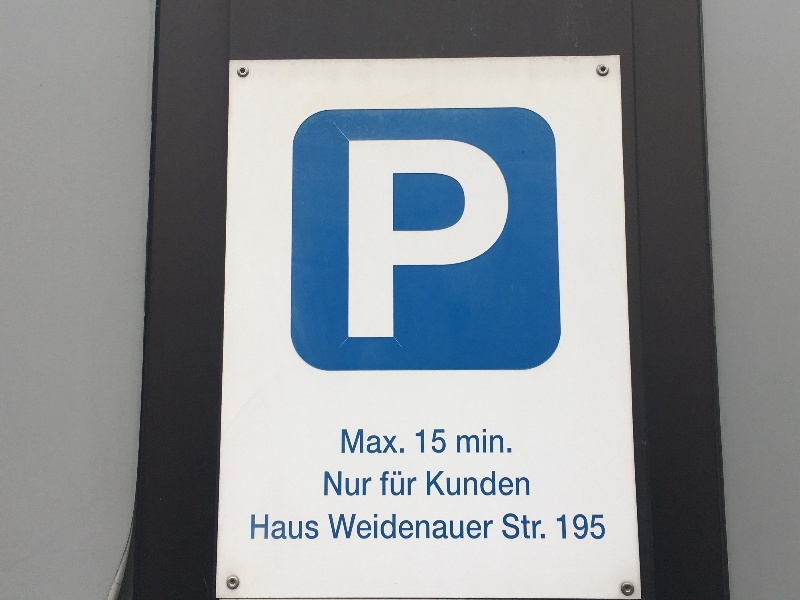text: (353, 140, 368, 340), (369, 140, 384, 340), (385, 140, 400, 340), (401, 140, 416, 340), (417, 140, 432, 340), (433, 140, 448, 340), (449, 140, 464, 340), (465, 140, 480, 340), (481, 140, 496, 340), (497, 140, 512, 340), (349, 140, 352, 340), (561, 511, 576, 541), (577, 511, 592, 541), (593, 511, 608, 541), (513, 512, 528, 541), (529, 512, 544, 541), (417, 430, 432, 458), (433, 430, 448, 458), (337, 471, 352, 499), (353, 471, 368, 499), (433, 471, 448, 499), (449, 471, 464, 499), (465, 471, 480, 499), (481, 471, 496, 499), (497, 471, 512, 499), (513, 471, 528, 499), (337, 513, 352, 541), (353, 513, 368, 541), (369, 513, 384, 541), (385, 513, 400, 541), (401, 513, 416, 541), (417, 513, 432, 541), (433, 513, 448, 541), (449, 513, 464, 541), (465, 513, 480, 541), (401, 472, 417, 498), (257, 514, 272, 541), (273, 514, 288, 541), (289, 514, 304, 541), (305, 514, 320, 541), (353, 430, 368, 456), (369, 430, 384, 456), (385, 430, 400, 456), (385, 472, 400, 498), (465, 432, 480, 457), (481, 432, 496, 457), (497, 432, 512, 457), (323, 471, 336, 499), (481, 513, 494, 541), (341, 430, 352, 456), (503, 512, 512, 541), (328, 513, 336, 541), (457, 432, 464, 457), (426, 471, 432, 499), (369, 471, 374, 499), (251, 514, 256, 541), (401, 430, 406, 456), (379, 472, 384, 498), (556, 511, 560, 541), (545, 512, 547, 541), (529, 471, 531, 499), (449, 430, 450, 458)
